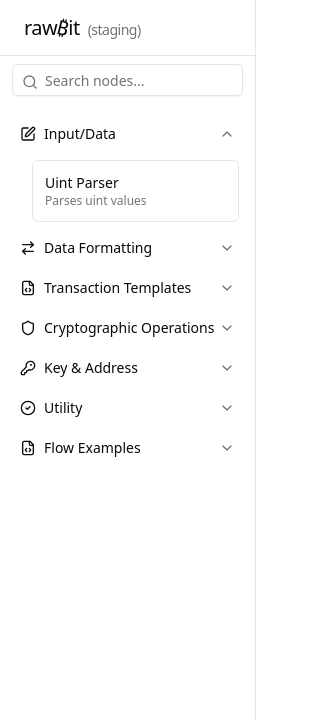
Test case: Sidebar › renders Flow Examples accordion and drag payload includes subgraph data
This screenshot has width=320, height=720.
Click the button "Flow Examples": (128, 448) left=12, top=430, right=243, bottom=466
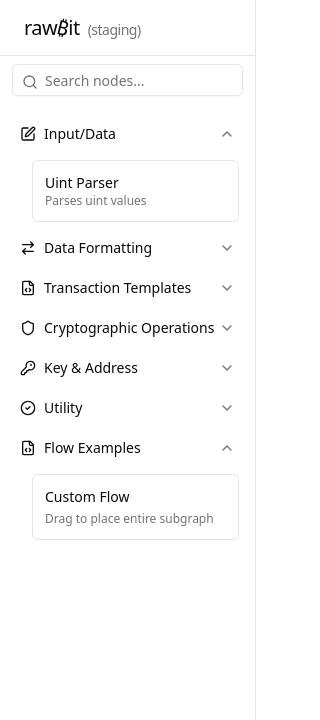
Result: the text "Custom Flow" is shown at left=45, top=487, right=130, bottom=506
